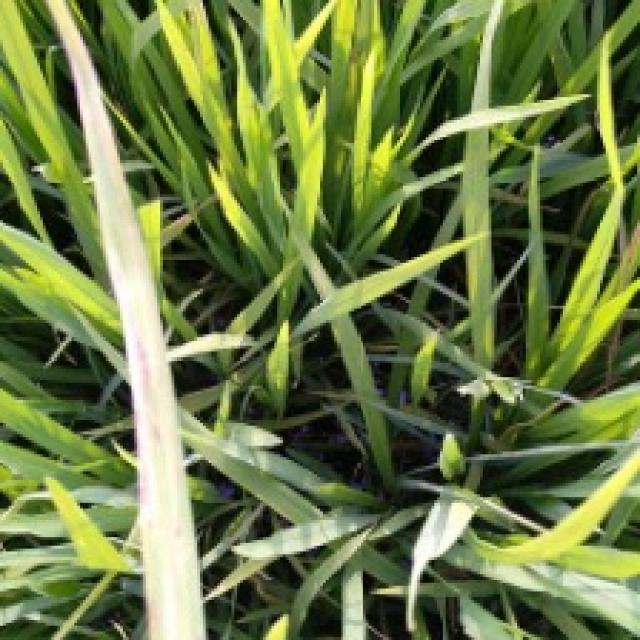Rice___Bacterial_Leaf_Blight: (44, 0, 211, 637)
